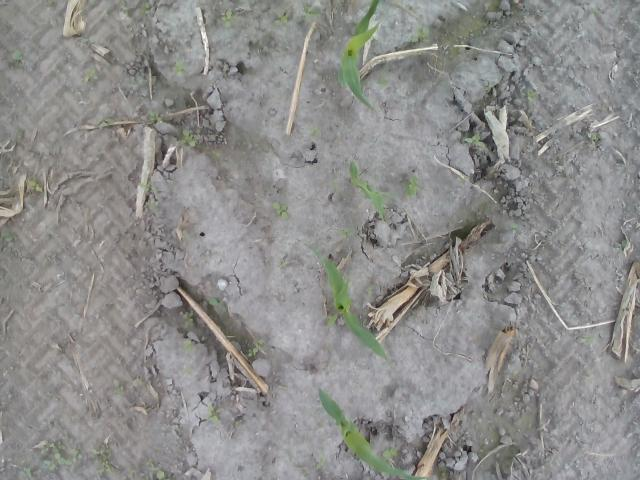Maize: (316, 386, 430, 480), (318, 254, 388, 362), (339, 0, 382, 112), (347, 159, 387, 220)
Weeds: (40, 440, 84, 472), (90, 448, 114, 476), (462, 131, 488, 152), (148, 459, 172, 480), (180, 126, 202, 147), (402, 172, 419, 198), (220, 7, 240, 27), (80, 63, 97, 86), (272, 198, 289, 220), (416, 24, 434, 44), (247, 339, 265, 358), (179, 310, 195, 330), (272, 7, 288, 27), (314, 448, 328, 470), (137, 0, 155, 16), (302, 3, 321, 17), (12, 48, 24, 70), (0, 226, 16, 242), (341, 224, 356, 241), (18, 466, 36, 480), (581, 334, 599, 348), (174, 62, 187, 81), (382, 446, 400, 459), (96, 115, 113, 128), (208, 404, 220, 422), (29, 177, 43, 192), (128, 79, 147, 90), (208, 148, 224, 161), (616, 239, 628, 256), (504, 222, 521, 234), (114, 382, 124, 402), (179, 339, 193, 353), (143, 182, 159, 194), (149, 110, 162, 124), (143, 199, 161, 209), (119, 0, 129, 17), (526, 90, 538, 104), (482, 80, 494, 93), (588, 132, 600, 145), (275, 257, 286, 270), (366, 286, 374, 303), (306, 128, 321, 137), (309, 244, 320, 256), (207, 296, 221, 305), (375, 78, 385, 90), (16, 126, 24, 140), (455, 176, 465, 186), (231, 420, 241, 430), (88, 0, 96, 9), (302, 472, 310, 480), (440, 472, 448, 480)
